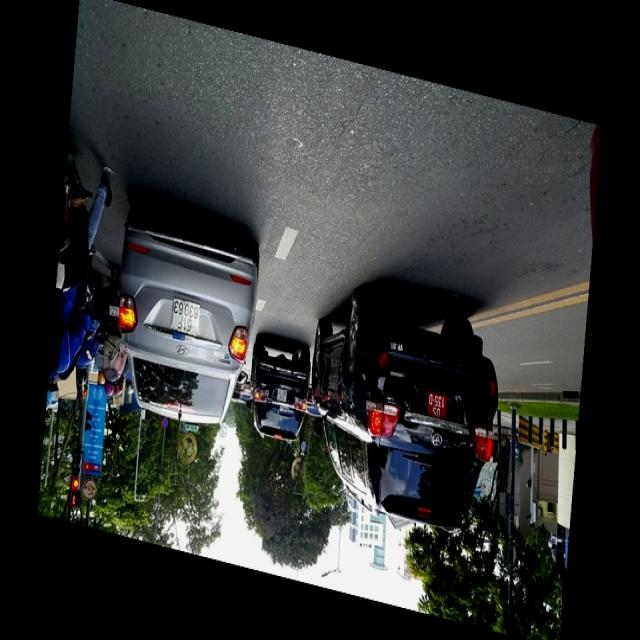bien_do: (427, 390, 447, 423)
bien_trang: (171, 296, 201, 336)
